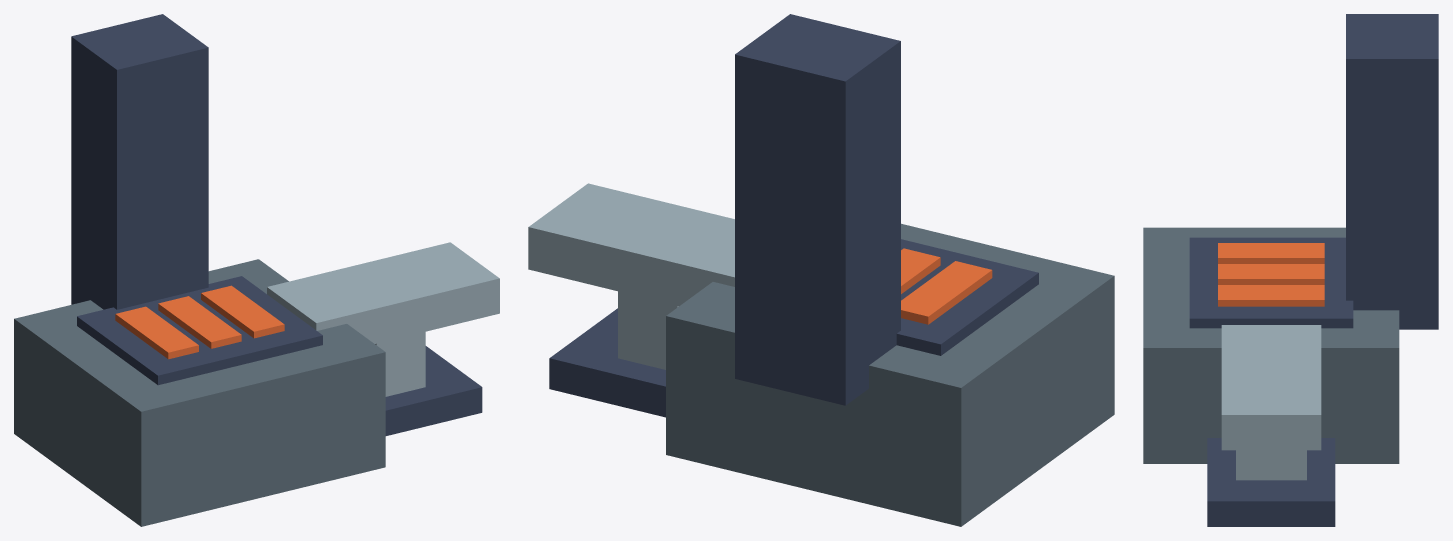
The model's file is IronveilForge.glb.
The picture shows the model from 3 angles, left to right: view 1: azimuth 30°, elevation 25°; view 2: azimuth 150°, elevation 25°; view 3: azimuth 270°, elevation 25°; orthographic projection. The views are drawn at different scales.
Parts seen in each view (by area): view 1: IronveilForge; view 2: IronveilForge; view 3: IronveilForge.
Part boxes in pixels (x1,y1,x2,y2): IronveilForge: (14, 14, 499, 526); IronveilForge: (528, 14, 1114, 526); IronveilForge: (1143, 14, 1438, 526).
Size of the model in its own units: 6.5 by 5.7 by 4.15.
